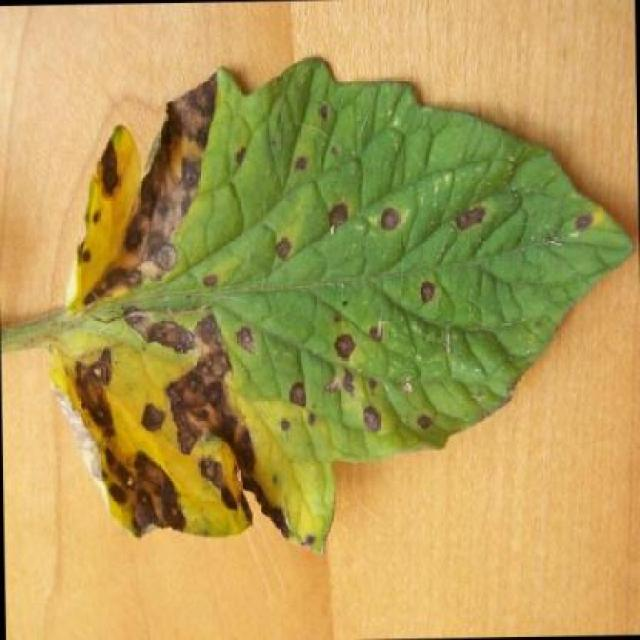Septoria leaf spot: (38, 24, 640, 573)
